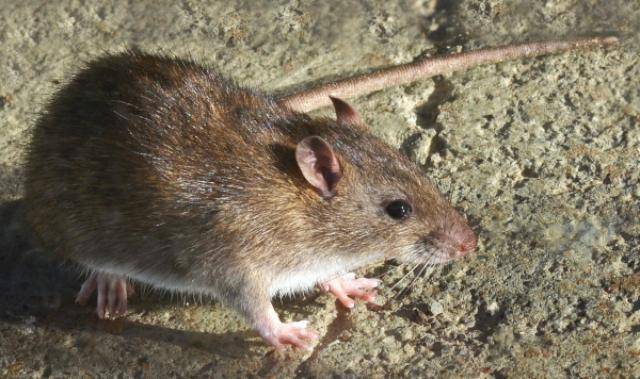rat: (18, 39, 488, 352)
